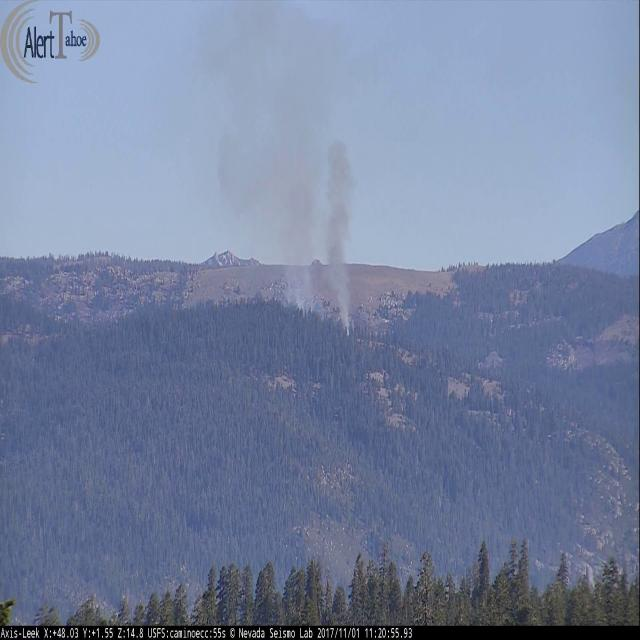smoke: (190, 9, 360, 337)
